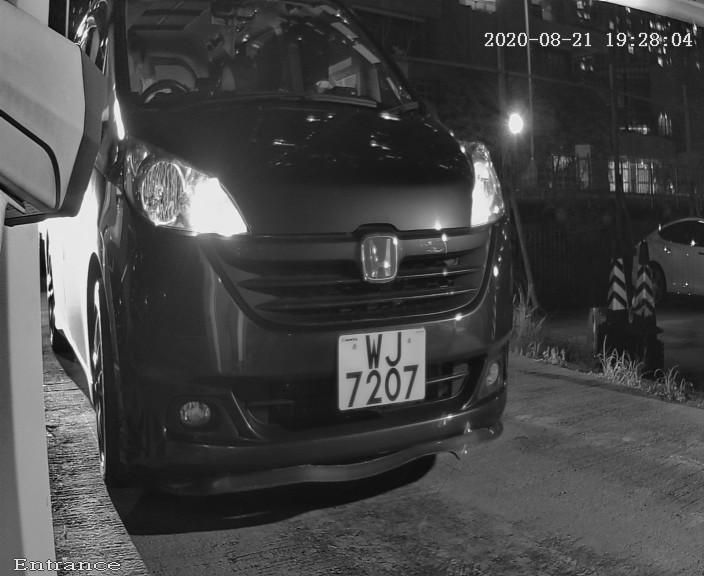License Plate: (327, 319, 437, 422)
